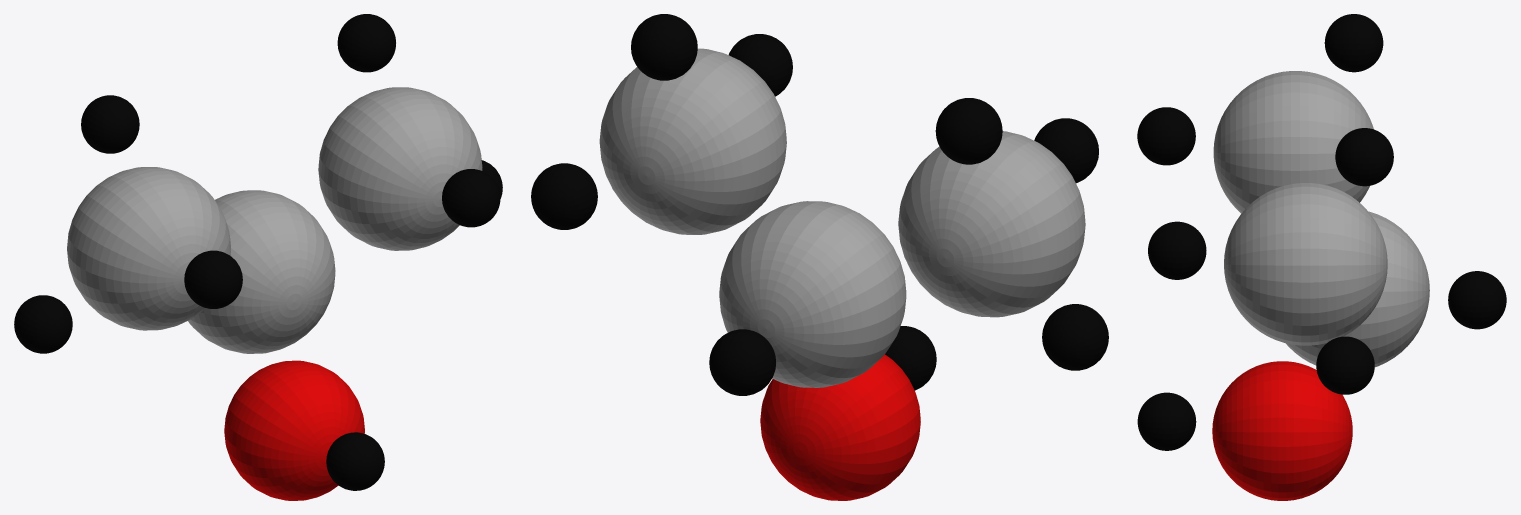
Rendered from Isopropyl Alcohol.glb.
The picture shows the model from 3 angles, left to right: view 1: azimuth 30°, elevation 25°; view 2: azimuth 150°, elevation 25°; view 3: azimuth 270°, elevation 25°; orthographic projection. The views are drawn at different scales.
Parts seen in each view (by area): view 1: world; view 2: world; view 3: world.
Boxes of the visible parts, x1,y1,x2,y2 form: world: (14, 14, 502, 500); world: (531, 14, 1108, 500); world: (1137, 14, 1506, 500).
Size of the model in its own units: 4.82 by 3.95 by 3.15.
